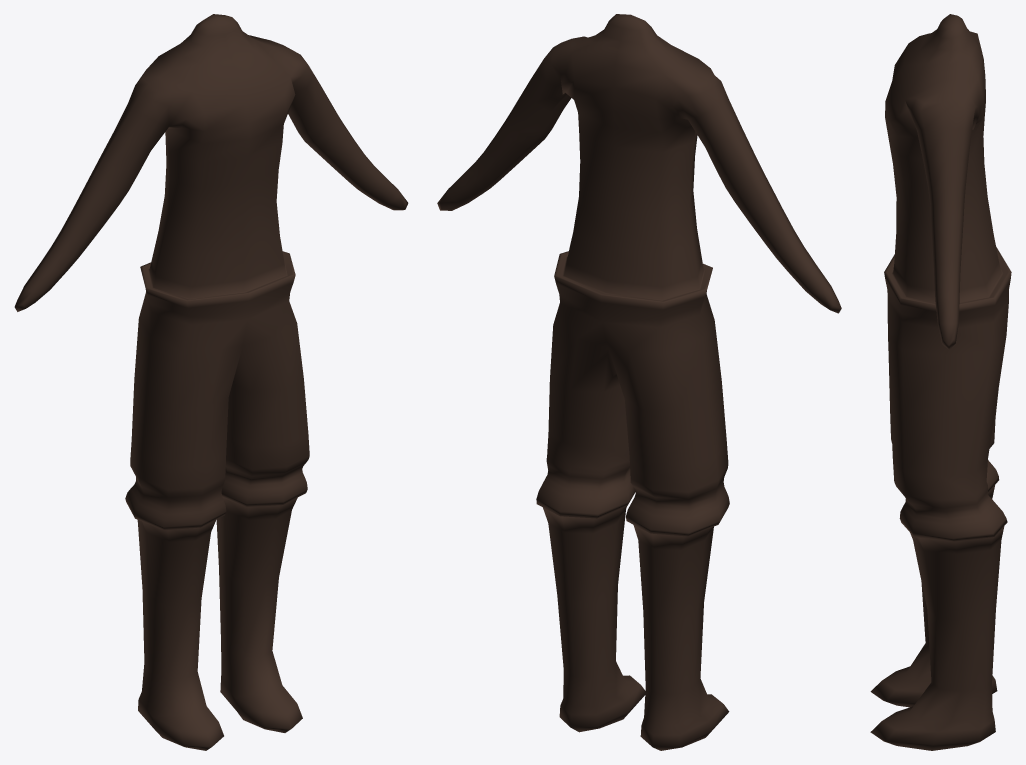
File: main male body.FBX
3 views of the same model, side by side, from view 1: azimuth 30°, elevation 25°; view 2: azimuth 150°, elevation 25°; view 3: azimuth 270°, elevation 25° (orthographic). The views are drawn at different scales.
Parts seen in each view (by area): view 1: Box001; view 2: Box001; view 3: Box001.
Part boxes in pixels (left/top/right/bottom): Box001: left=14, top=14, right=408, bottom=750; Box001: left=437, top=14, right=841, bottom=750; Box001: left=870, top=14, right=1011, bottom=750.
Bounding box in the file's own units: 21.59 × 36.74 × 6.62.
